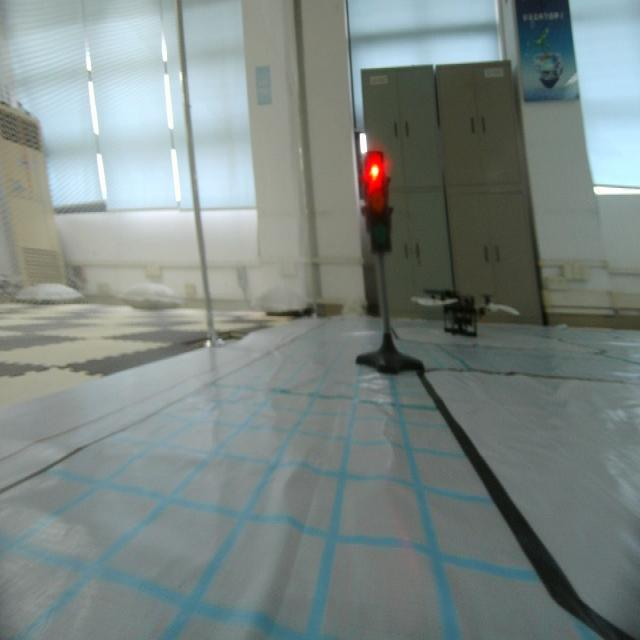red: (359, 154, 396, 258)
